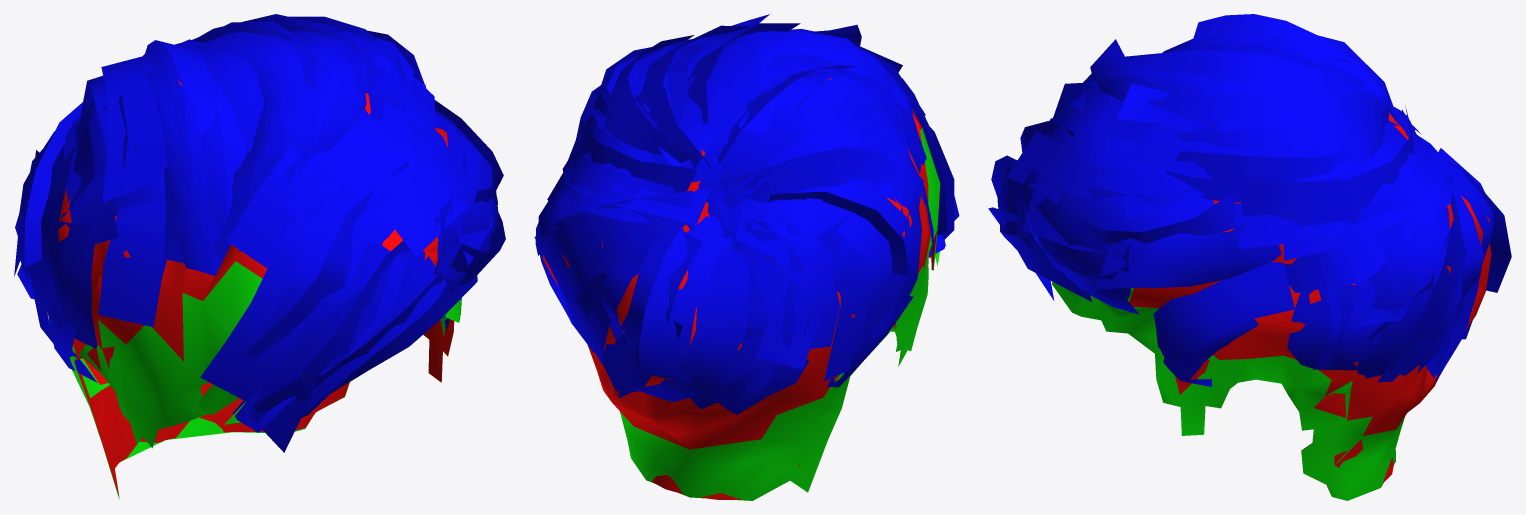
File: hair_004.obj
The picture shows the model from 3 angles, left to right: view 1: azimuth 30°, elevation 25°; view 2: azimuth 150°, elevation 25°; view 3: azimuth 270°, elevation 25°; orthographic projection. The views are drawn at different scales.
Bounding box in the file's own units: 19.08 × 21.83 × 24.17.
